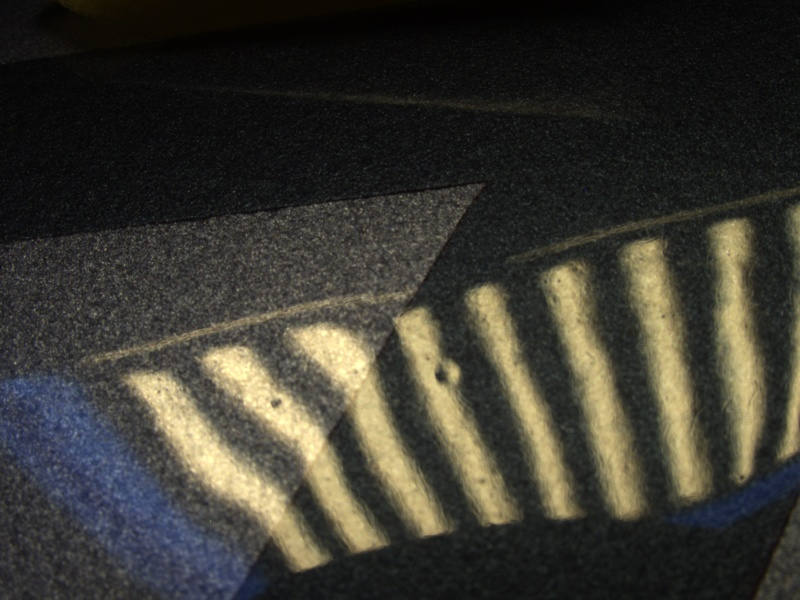bad: (431, 351, 466, 394)
